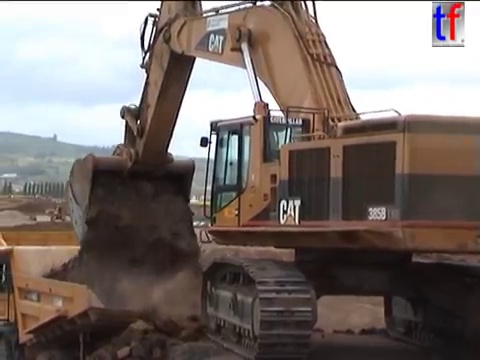excavator: (63, 1, 479, 360), (44, 206, 75, 228)
truck: (1, 223, 208, 360)
